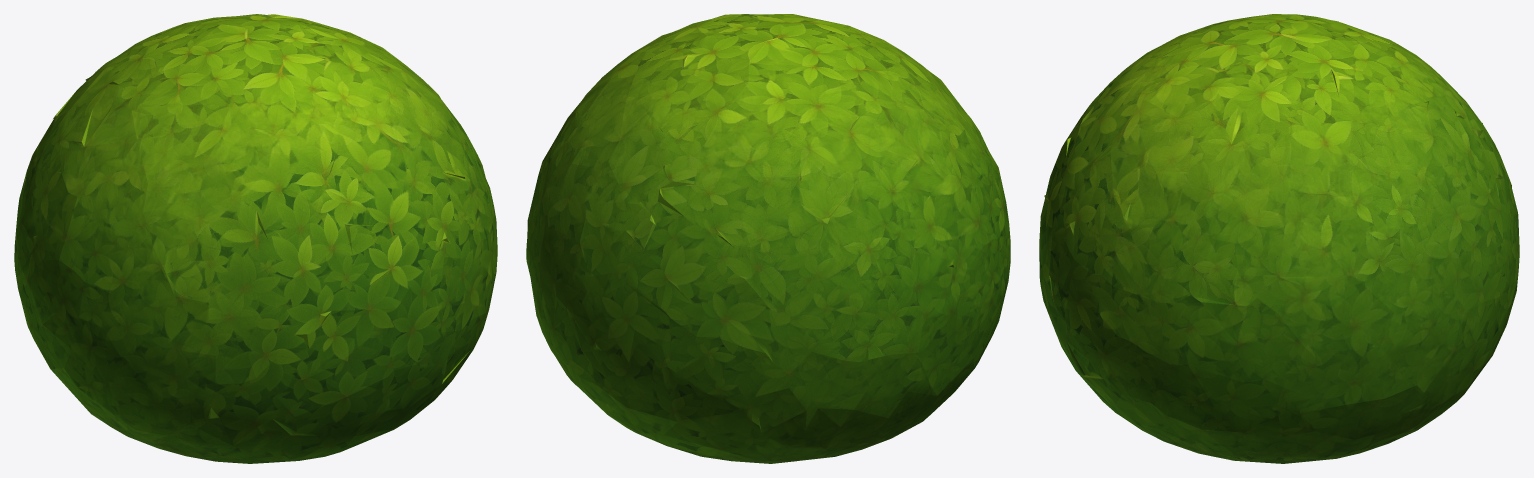
File: hedge_end.glb
3 renders of one model, left to right at view 1: azimuth 30°, elevation 25°; view 2: azimuth 150°, elevation 25°; view 3: azimuth 270°, elevation 25°, orthographic.
Bounding box in the file's own units: 1.9 × 1.64 × 1.9.
1 material, 1 textured.
